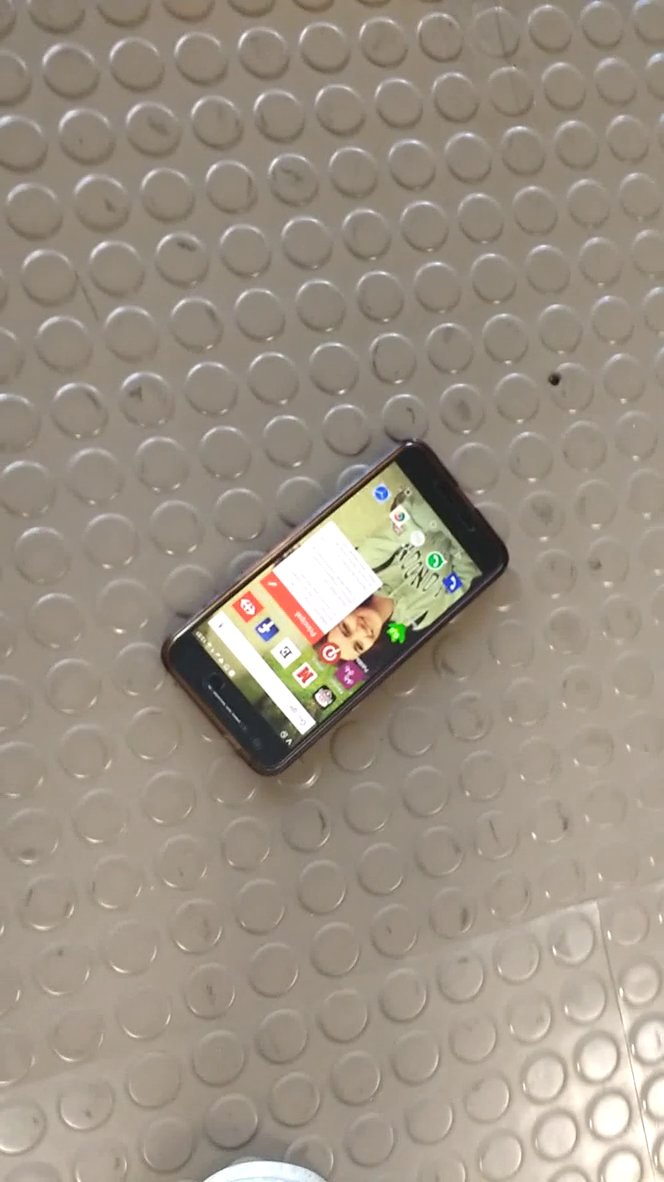phone: (147, 428, 523, 798)
